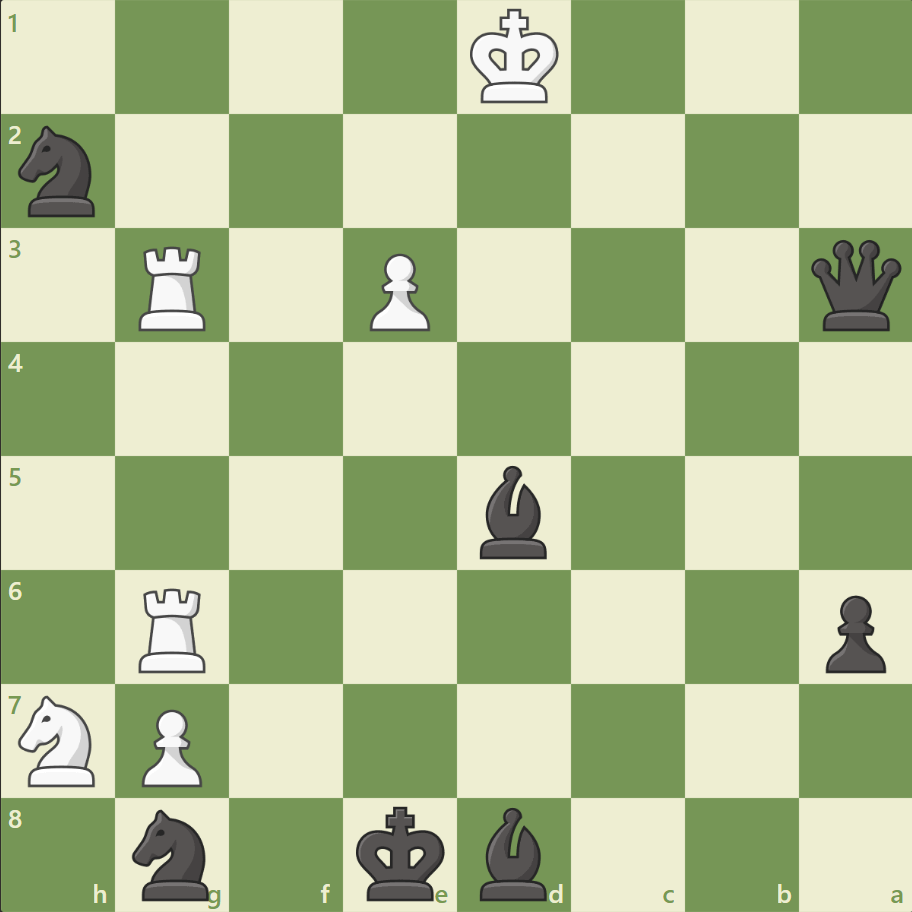K: (465, 4, 565, 112)
N: (11, 688, 108, 791)
P: (133, 700, 208, 791), (361, 246, 435, 337)
R: (133, 579, 215, 676), (133, 239, 215, 336)
b: (471, 801, 555, 904), (471, 460, 555, 563)
k: (351, 798, 451, 906)
n: (124, 802, 222, 904), (11, 121, 108, 223)
p: (815, 586, 889, 677)
q: (805, 236, 904, 335)
